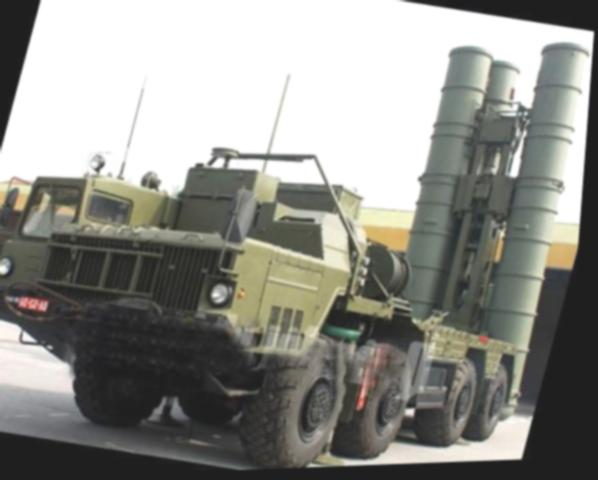License_Plate: (12, 286, 56, 315)
